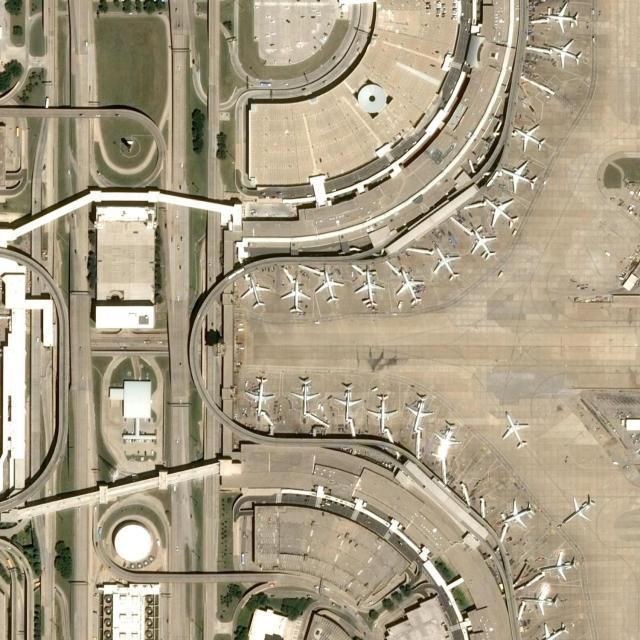Aircraft: (539, 0, 587, 35), (483, 196, 525, 232), (499, 162, 541, 197), (507, 121, 551, 153), (285, 374, 319, 415), (242, 371, 272, 417), (313, 268, 347, 308), (353, 270, 385, 312), (540, 548, 583, 579), (501, 410, 531, 454), (365, 390, 397, 431), (433, 421, 464, 462), (330, 381, 358, 425), (544, 38, 584, 67), (466, 225, 497, 262), (430, 245, 460, 281), (563, 493, 596, 525), (397, 269, 426, 305), (240, 278, 270, 312), (407, 393, 431, 433), (281, 277, 309, 311), (536, 620, 572, 639)
